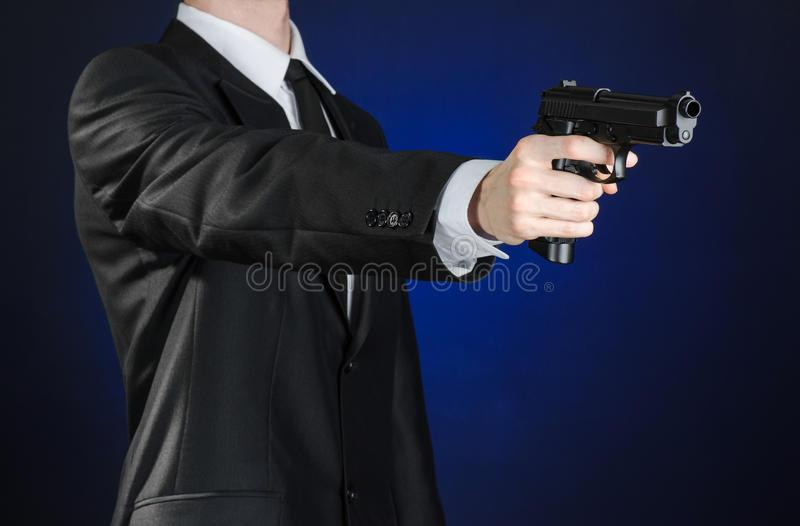weapon: (527, 76, 707, 265)
